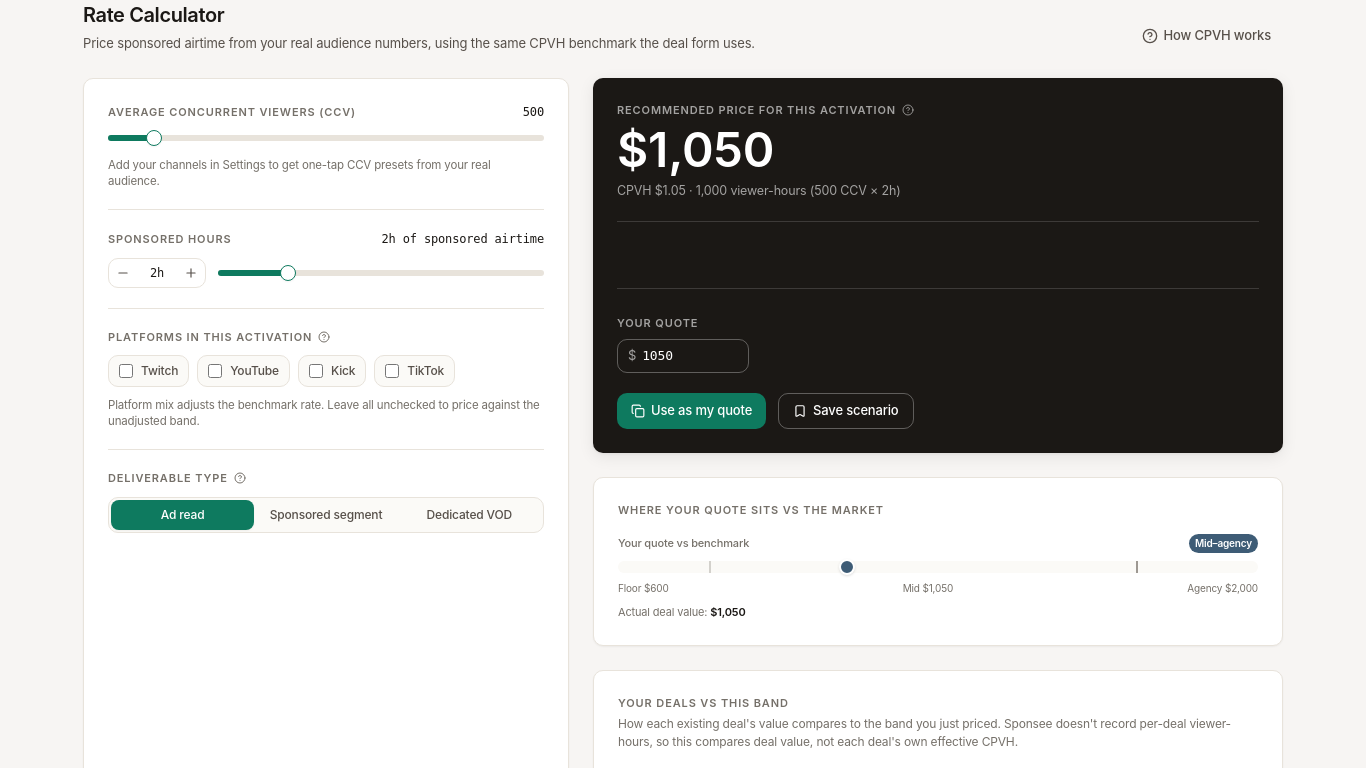
Test: Calculator accessibility › opens the CPVH explainer as a modal dialog and closes it on Escape
The width and height of the screenshot is (1366, 768).
Click the button "How CPVH works". click: (1206, 36)
box: [1130,18,1283,54]
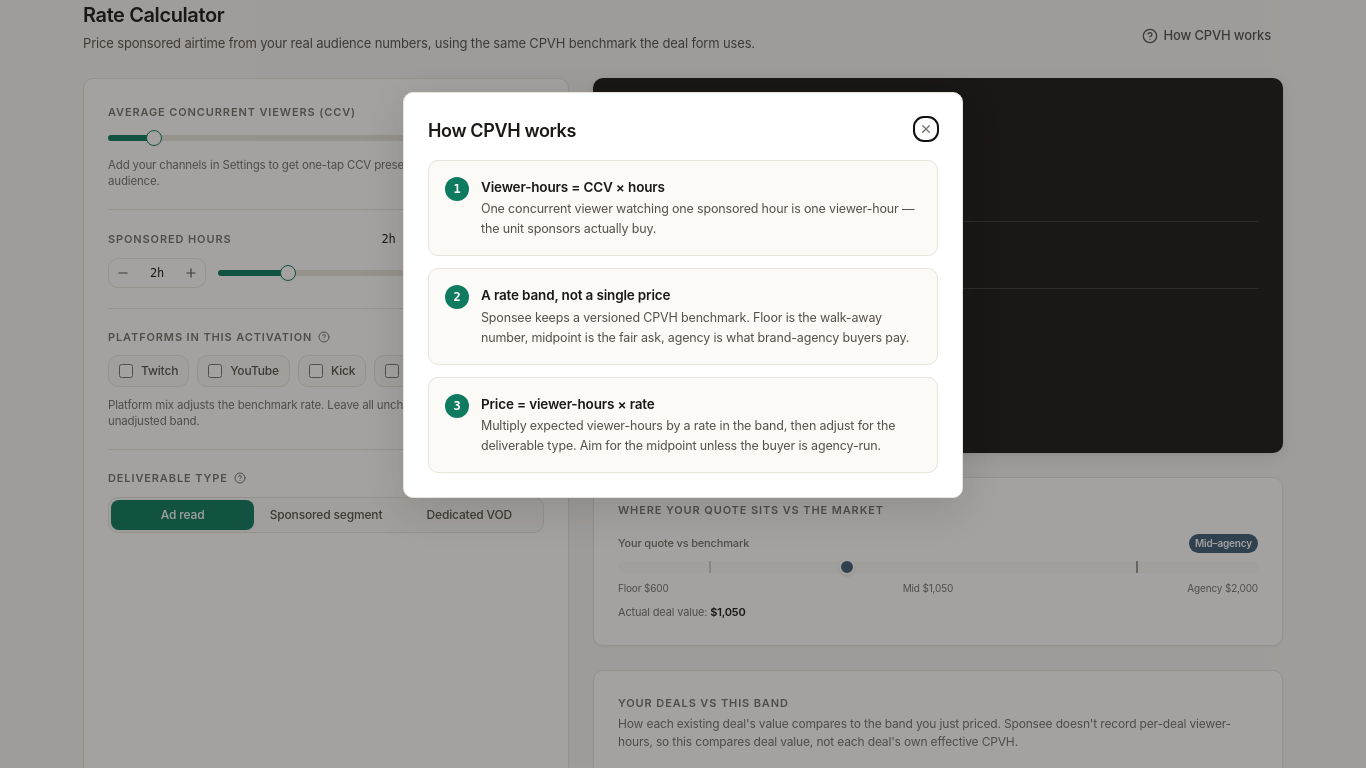
Expected: the heading "How CPVH works" is shown, [428,117,576,144]
Press Escape
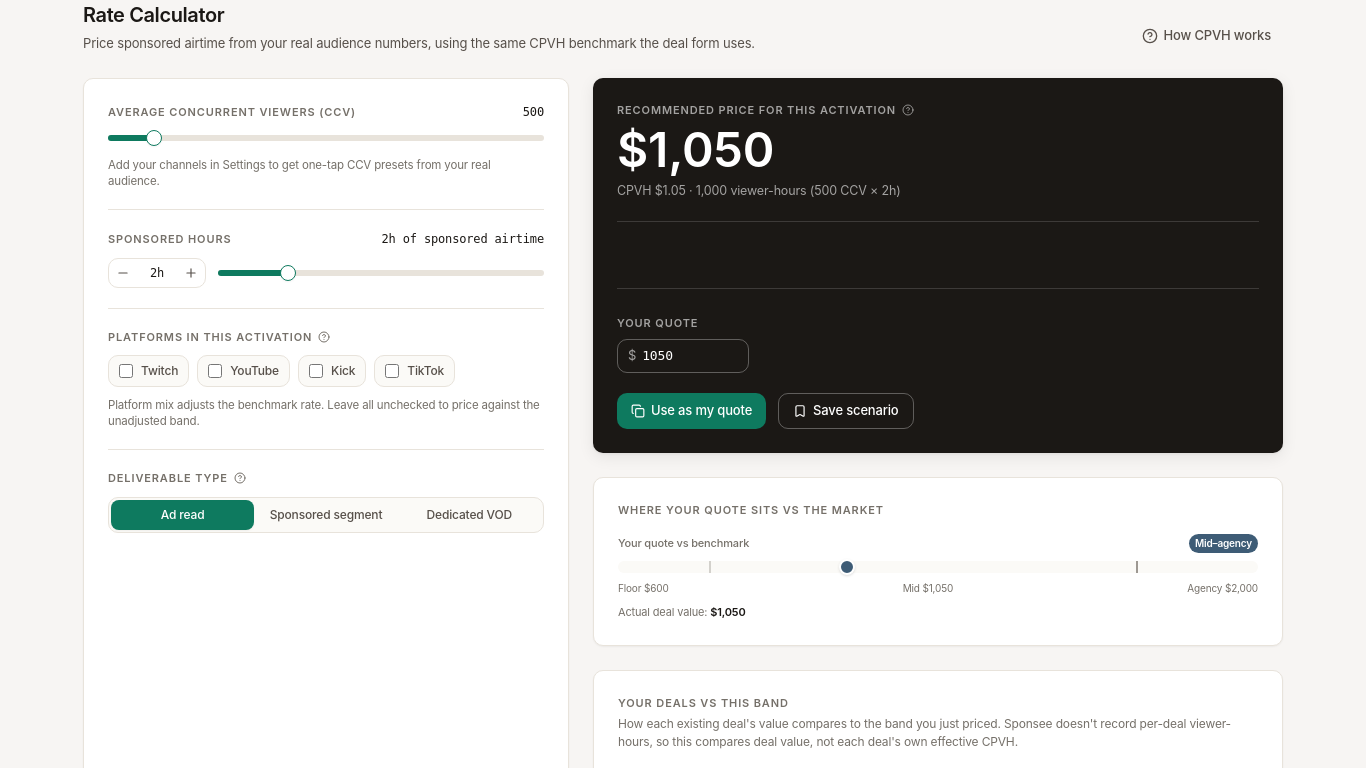
Expected: the dialog is gone
